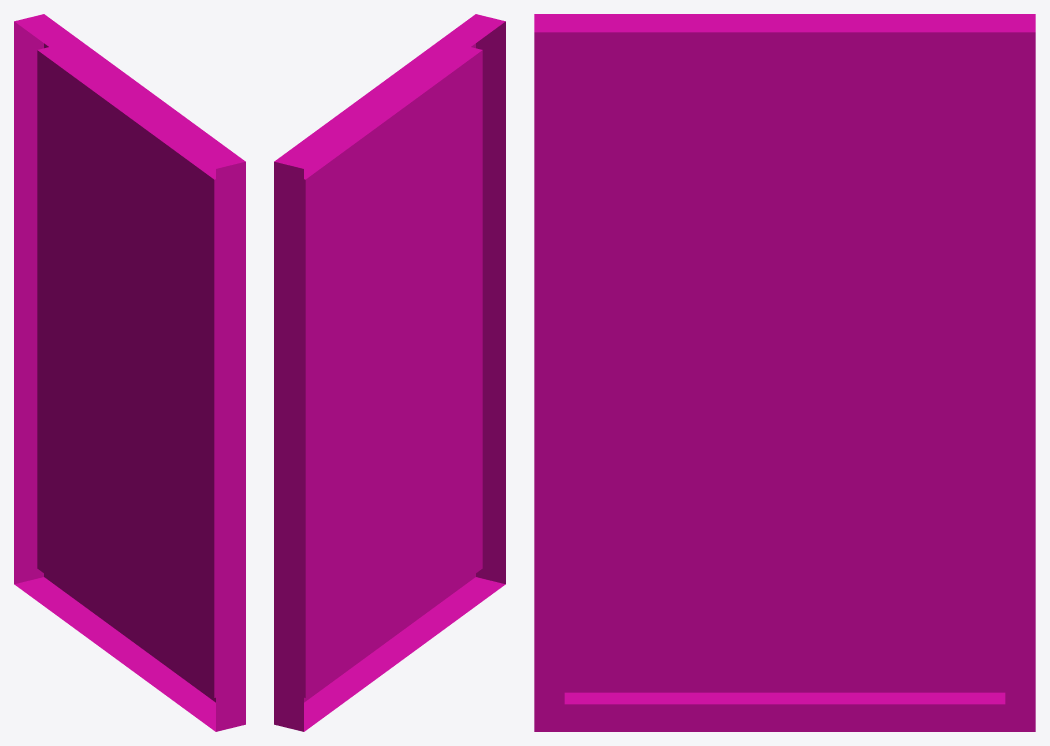
Rendered from frame.fbx.
3 views of the same model, side by side, from view 1: azimuth 30°, elevation 25°; view 2: azimuth 150°, elevation 25°; view 3: azimuth 270°, elevation 25° (orthographic). The views are drawn at different scales.
Parts seen in each view (by area): view 1: frame; view 2: frame; view 3: frame.
Boxes of the visible parts, box(x1,y1,x2,y2) form: frame: box(14, 14, 245, 731); frame: box(274, 14, 505, 731); frame: box(534, 14, 1035, 731).
Bounding box in the file's own units: 9.27 × 166 × 108.
